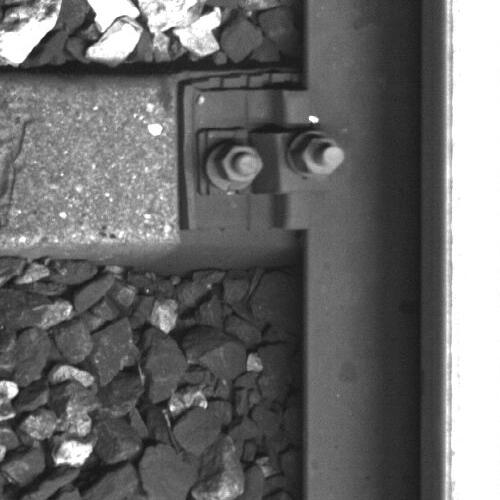kb: (194, 90, 345, 228)
nut: (289, 133, 345, 178), (214, 145, 263, 184)
rail: (442, 1, 500, 500)
tie_concr: (1, 76, 303, 238)
